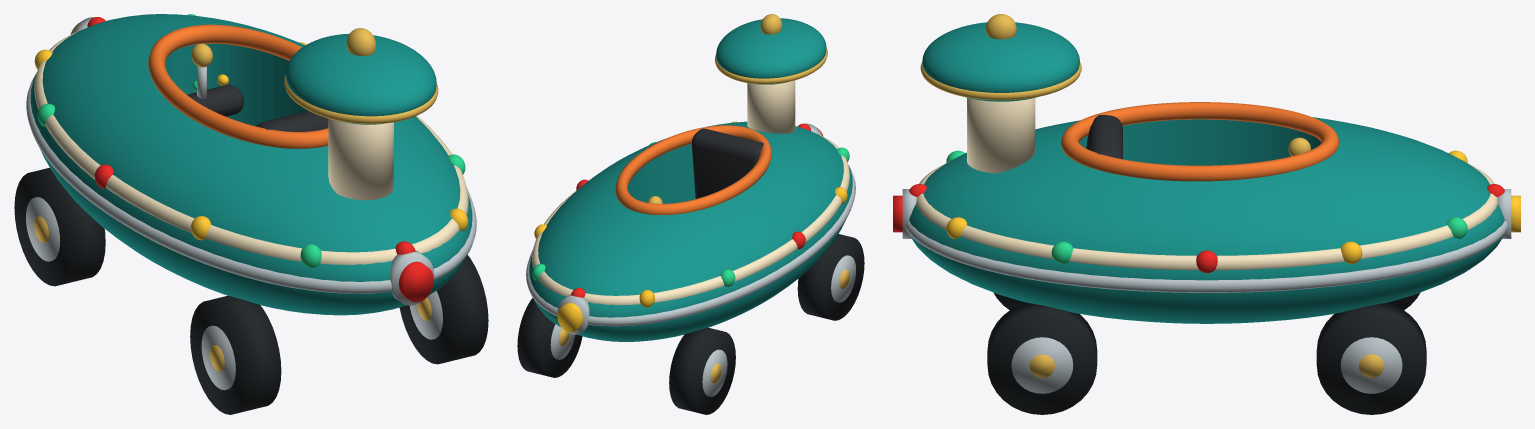
The model's file is ufo-spel.glb.
3 renders of one model, left to right at view 1: azimuth 30°, elevation 25°; view 2: azimuth 150°, elevation 25°; view 3: azimuth 270°, elevation 25°, orthographic. The views are drawn at different scales.
Visible parts, largest first — view 1: Schotel carrosserie, Kap, Band.001, Lichte band, Cockpitrand, Band, Chroom stootrand, Band.003, Kap steun, Velg.001, Velg, Kap rand (+6 smaller); view 2: Schotel carrosserie, Kap, Cockpitrand, Band, Lichte band, Stoelleuning, Chroom stootrand, Band.001, Band.002, Kap steun, Velg, Velg.001 (+5 smaller); view 3: Schotel carrosserie, Cockpitrand, Kap, Chroom stootrand, Lichte band, Band.002, Band.003, Kap steun, Velg.002, Velg.003, Stoelleuning, Kap rand (+1 smaller).
Boxes of the visible parts, bbox=[...] form: Schotel carrosserie: bbox=[30, 14, 472, 315]; Kap: bbox=[285, 33, 436, 124]; Band.001: bbox=[190, 295, 281, 414]; Lichte band: bbox=[34, 28, 468, 264]; Cockpitrand: bbox=[148, 24, 328, 148]; Band: bbox=[14, 167, 105, 286]; Chroom stootrand: bbox=[26, 74, 476, 293]; Band.003: bbox=[399, 255, 488, 364]; Kap steun: bbox=[328, 118, 393, 200]; Velg.001: bbox=[201, 325, 235, 390]; Velg: bbox=[26, 197, 60, 261]; Kap rand: bbox=[284, 74, 438, 124]; Schotel carrosserie: bbox=[529, 121, 852, 341]; Kap: bbox=[716, 18, 826, 84]; Cockpitrand: bbox=[615, 125, 771, 214]; Band: bbox=[669, 327, 735, 414]; Lichte band: bbox=[532, 132, 849, 305]; Stoelleuning: bbox=[691, 128, 763, 198]; Chroom stootrand: bbox=[526, 166, 855, 326]; Band.001: bbox=[797, 234, 864, 320]; Band.002: bbox=[517, 298, 582, 377]; Kap steun: bbox=[747, 80, 795, 133]; Velg: bbox=[702, 349, 727, 396]; Velg.001: bbox=[831, 255, 855, 302]; Schotel carrosserie: bbox=[909, 117, 1504, 323]; Cockpitrand: bbox=[1061, 102, 1339, 181]; Kap: bbox=[922, 22, 1079, 101]; Chroom stootrand: bbox=[905, 221, 1508, 292]; Lichte band: bbox=[916, 161, 1497, 270]; Band.002: bbox=[1316, 302, 1426, 414]; Band.003: bbox=[987, 302, 1097, 414]; Kap steun: bbox=[967, 98, 1035, 173]; Velg.002: bbox=[1340, 337, 1402, 393]; Velg.003: bbox=[1011, 337, 1073, 393]; Stoelleuning: bbox=[1086, 115, 1122, 159]; Kap rand: bbox=[920, 62, 1081, 100].
Bounding box in the file's own units: 0.9838 × 1.11 × 1.83.
